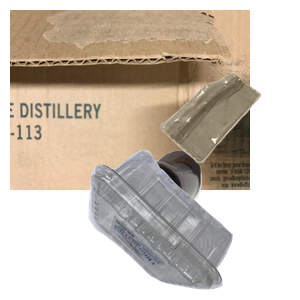cardboard: (10, 10, 250, 190)
glass: (90, 148, 300, 300)
plastic: (86, 147, 300, 300)
trash: (158, 71, 300, 227)
